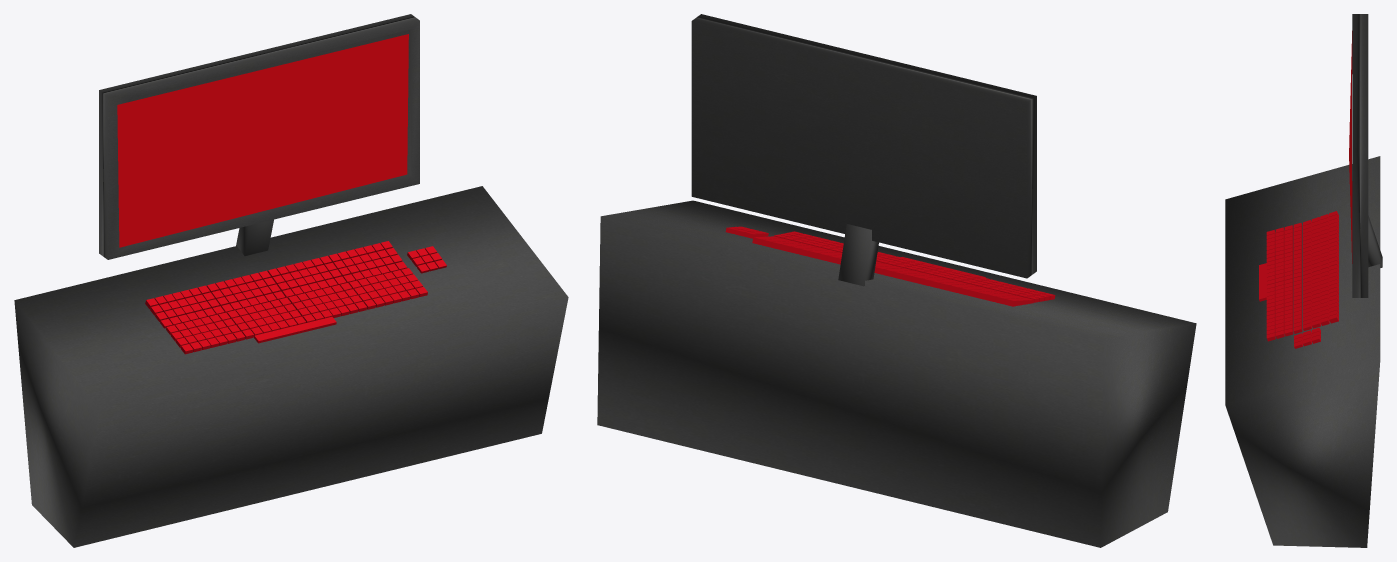
Rendered from terminal.fbx.
3 renders of one model, left to right at view 1: azimuth 30°, elevation 25°; view 2: azimuth 150°, elevation 25°; view 3: azimuth 270°, elevation 25°, orthographic. The views are drawn at different scales.
Visible parts, largest first — view 1: Terminal Base, Screen, Monitor, Monitor Stand, Keyboard; view 2: Terminal Base, Monitor, Monitor Stand; view 3: Terminal Base, Monitor, Screen, Monitor Stand, Keyboard.
Part boxes in pixels (box(x1,y1,x2,y2)): Terminal Base: box(14, 186, 568, 547); Screen: box(117, 34, 408, 247); Monitor: box(99, 14, 419, 259); Monitor Stand: box(236, 219, 273, 255); Keyboard: box(254, 316, 336, 343); Terminal Base: box(597, 200, 1196, 547); Monitor: box(691, 14, 1036, 278); Monitor Stand: box(838, 224, 878, 286); Terminal Base: box(1225, 156, 1380, 547); Monitor: box(1352, 14, 1368, 297); Screen: box(1349, 31, 1352, 263); Monitor Stand: box(1368, 215, 1382, 267); Keyboard: box(1259, 263, 1266, 301).
Bounding box in the file's own units: 613 × 490 × 194.
270 materials, 3 textured.
